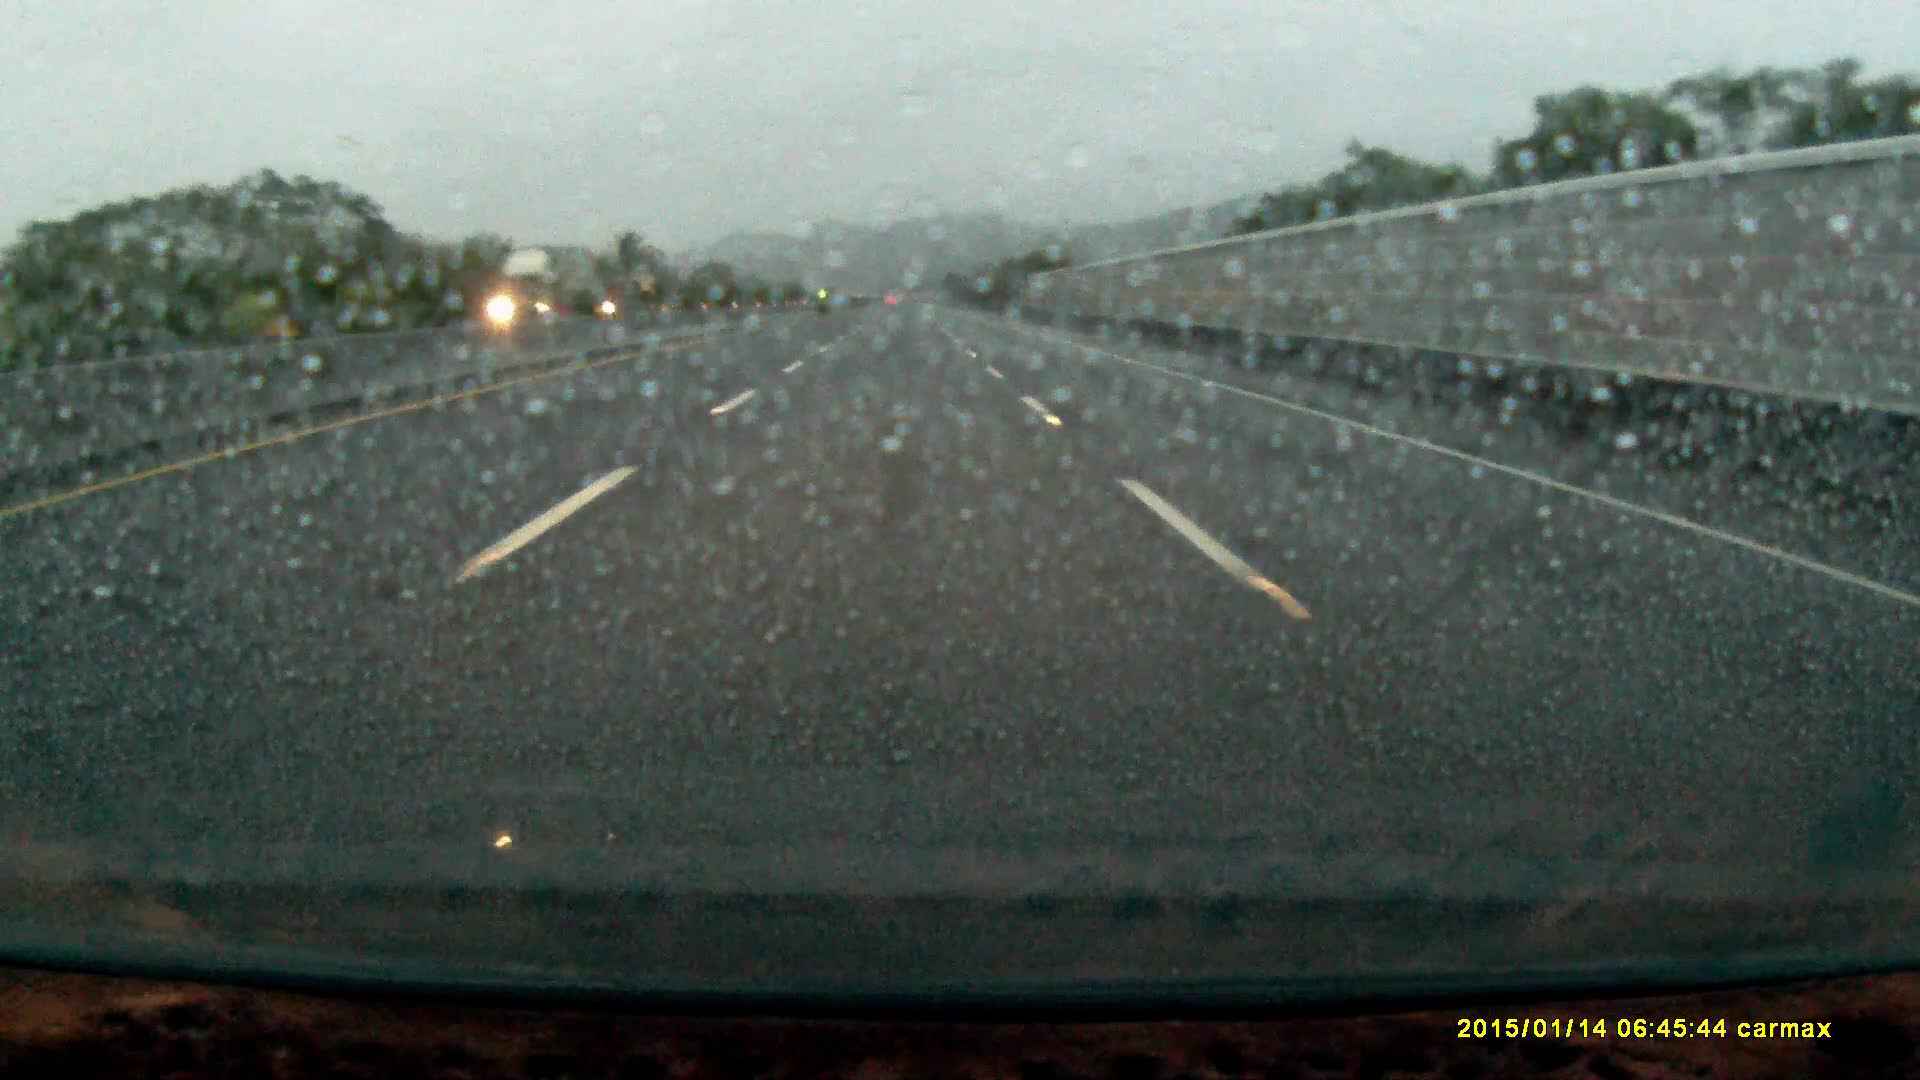vehicle: (487, 247, 600, 318)
